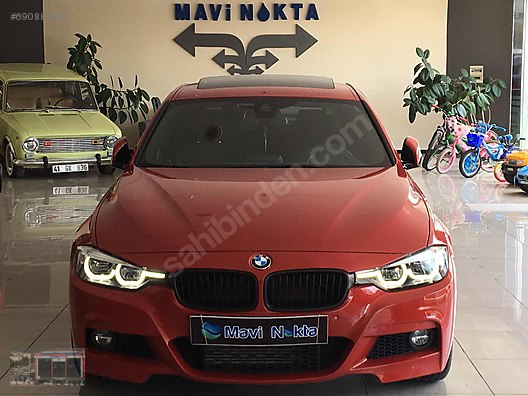bmw: (60, 68, 468, 386)
